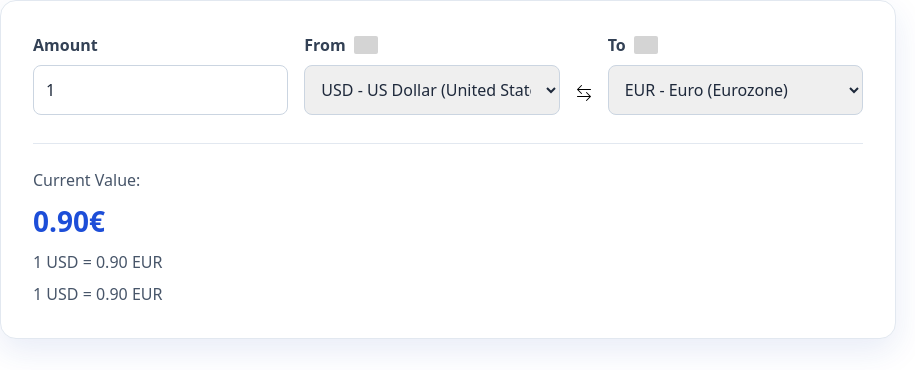
Scenario: currency conversion with the API › changing the selected currencies › changes From to SGD and then To to USD
The image size is (915, 370).
expect the 1st text "1 USD = 0.90 EUR" is shown: met, box [33, 251, 162, 273]
Note: Select SGD as the From currency.
Select "SGD - Singapore Dollar (Singapore)" in the dropdown labelled "From". click: (432, 90)
box: [304, 65, 560, 115]
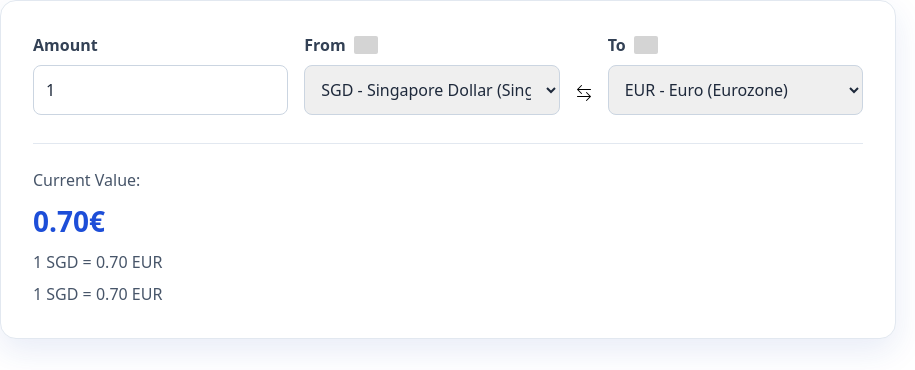
expect the 1st text "1 SGD = 0.70 EUR" is shown: met, box [33, 251, 162, 273]
Note: Select USD as the To currency.
Select "USD - US Dollar (United States)" in the dropdown labelled "To". click: (735, 90)
box: [608, 65, 863, 115]
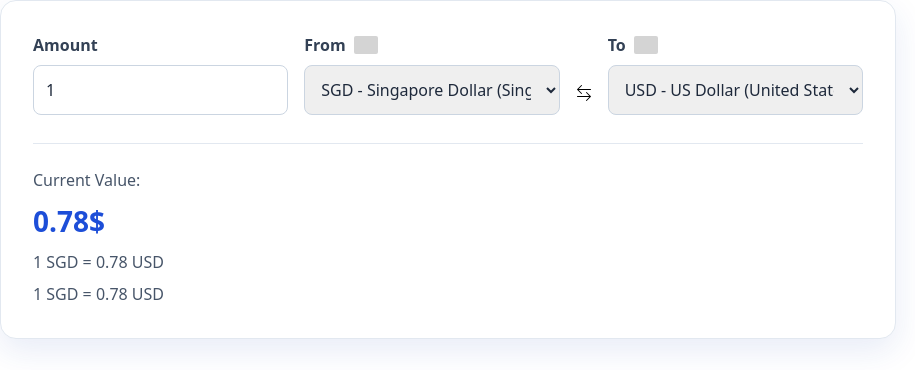
expect the 1st text "1 SGD = 0.78 USD" is shown: met, box [33, 251, 164, 273]
